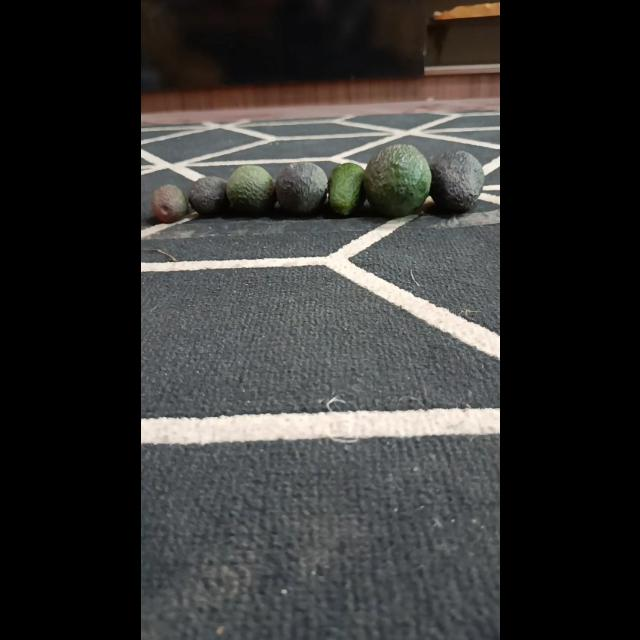Primera: (362, 143, 432, 217), (427, 149, 483, 213)
Segunda: (274, 162, 328, 216), (224, 164, 276, 216), (326, 162, 366, 215)
Tercera: (186, 175, 228, 217), (150, 183, 188, 223)
